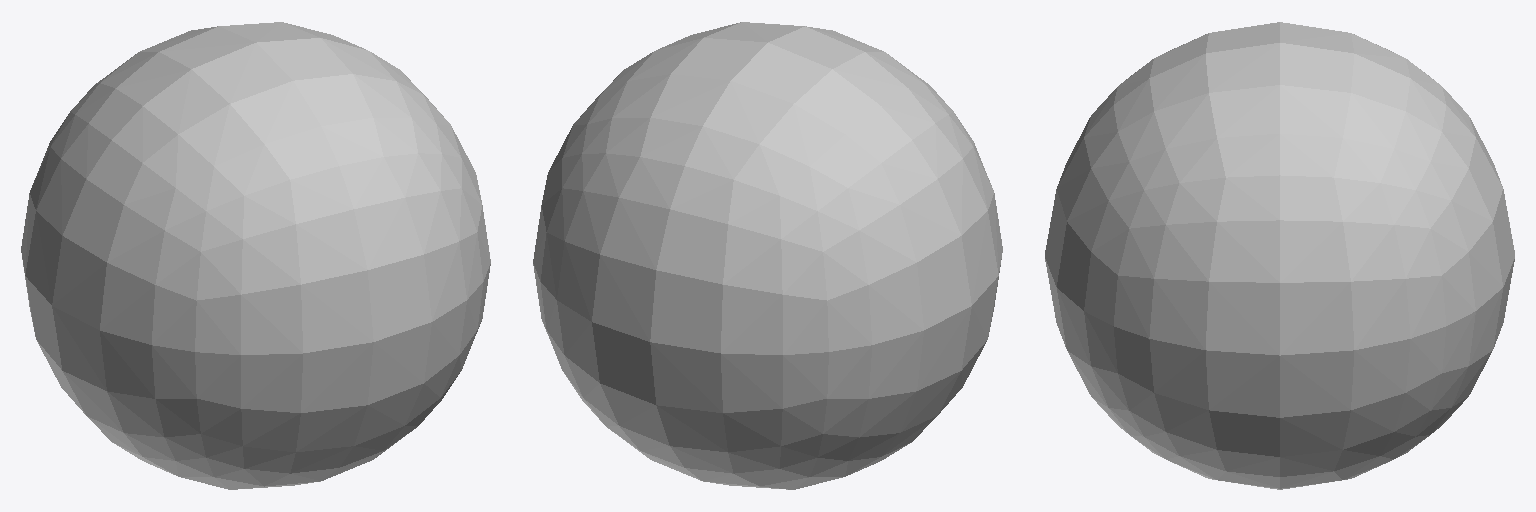
File: volley_ball.obj
3 views of the same model, side by side, from view 1: azimuth 30°, elevation 25°; view 2: azimuth 150°, elevation 25°; view 3: azimuth 270°, elevation 25° (orthographic).
Visible parts, largest first — view 1: Volleyball; view 2: Volleyball; view 3: Volleyball.
Part boxes in pixels (bbox=[...]): Volleyball: bbox=[21, 22, 490, 489]; Volleyball: bbox=[533, 22, 1002, 489]; Volleyball: bbox=[1045, 22, 1514, 489].
Size of the model in its own units: 6.42 by 6.42 by 6.42.